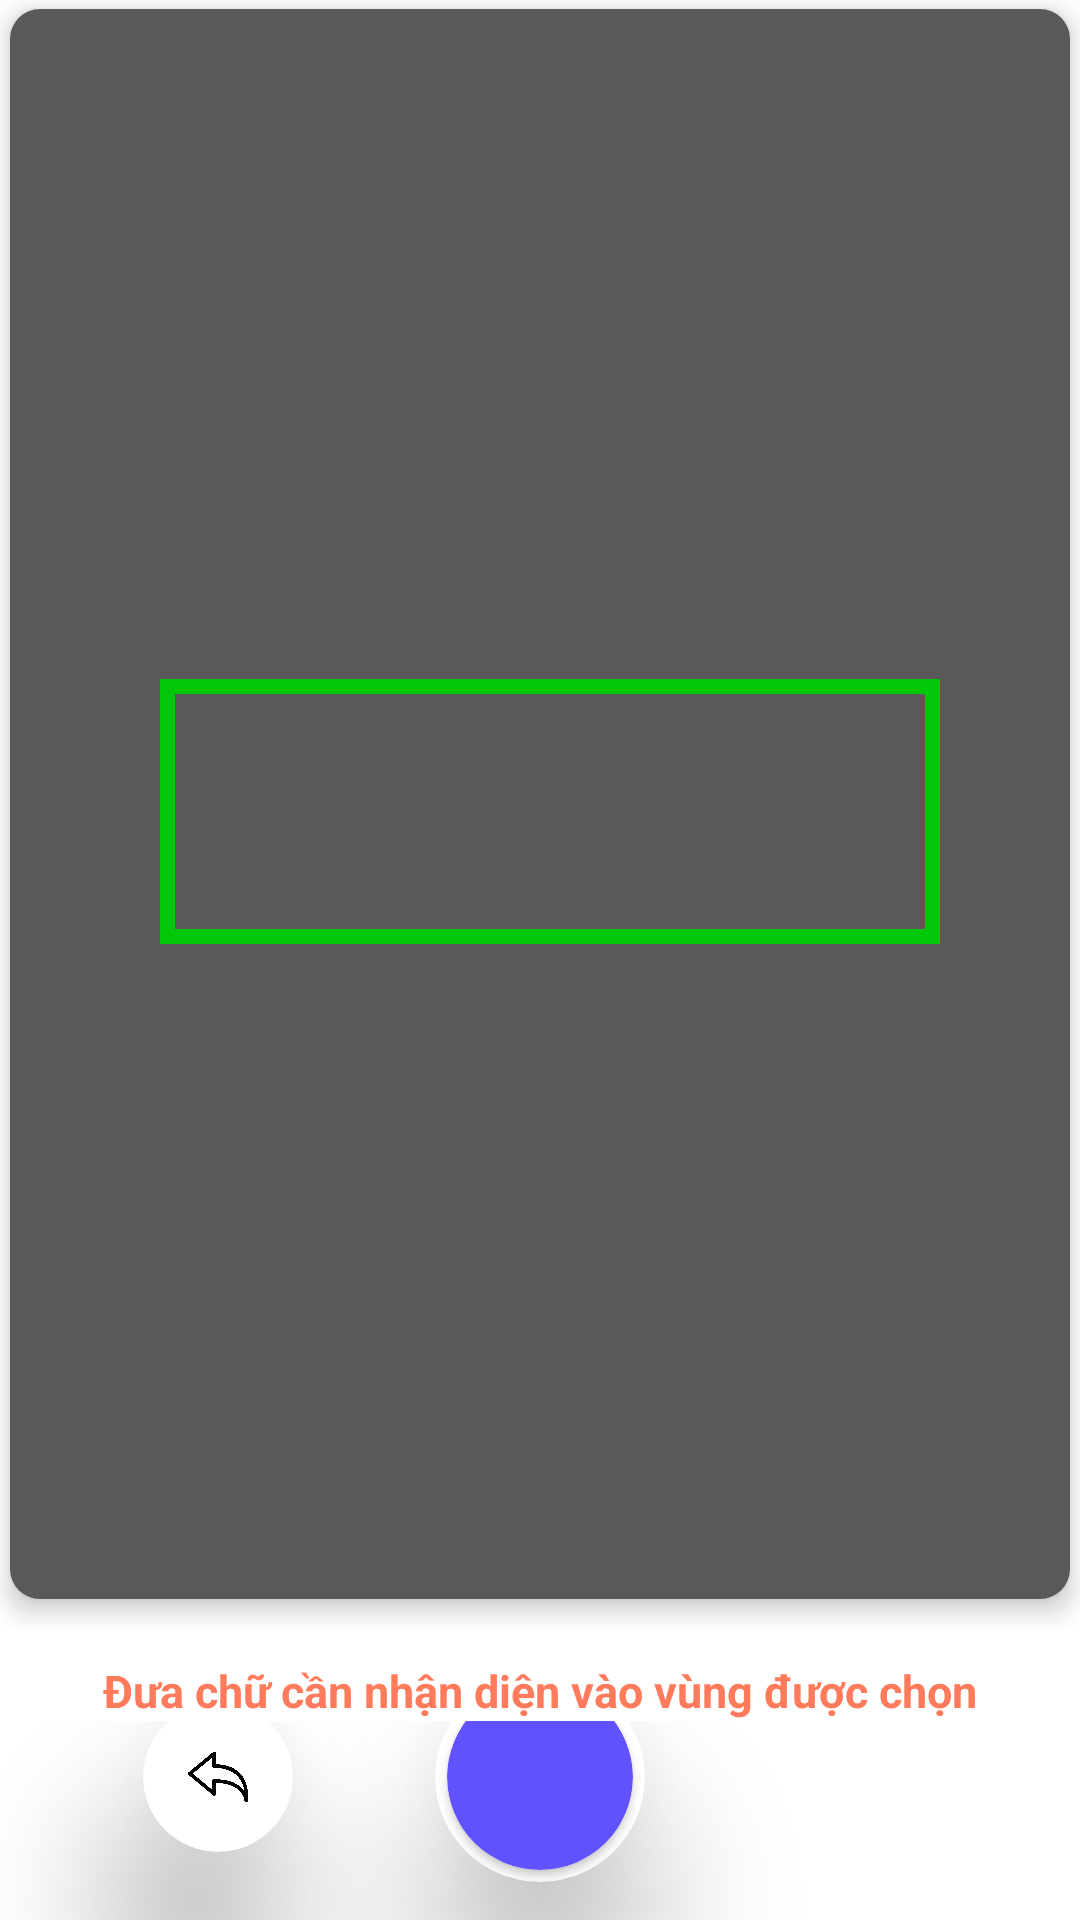

Where icons sit on this 1080px x 1920px app screen, as (x1, y1, x2, y2):
back: (188, 1752, 248, 1802)
